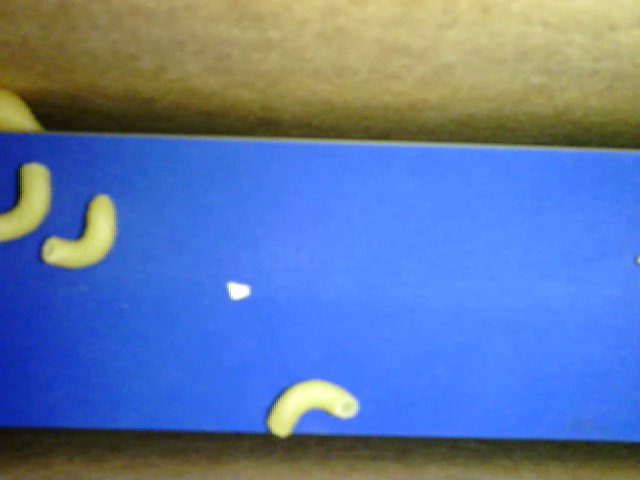elbow: (40, 194, 117, 269), (266, 377, 358, 438), (1, 163, 53, 245)
shell: (1, 89, 46, 133), (265, 1, 267, 2)
